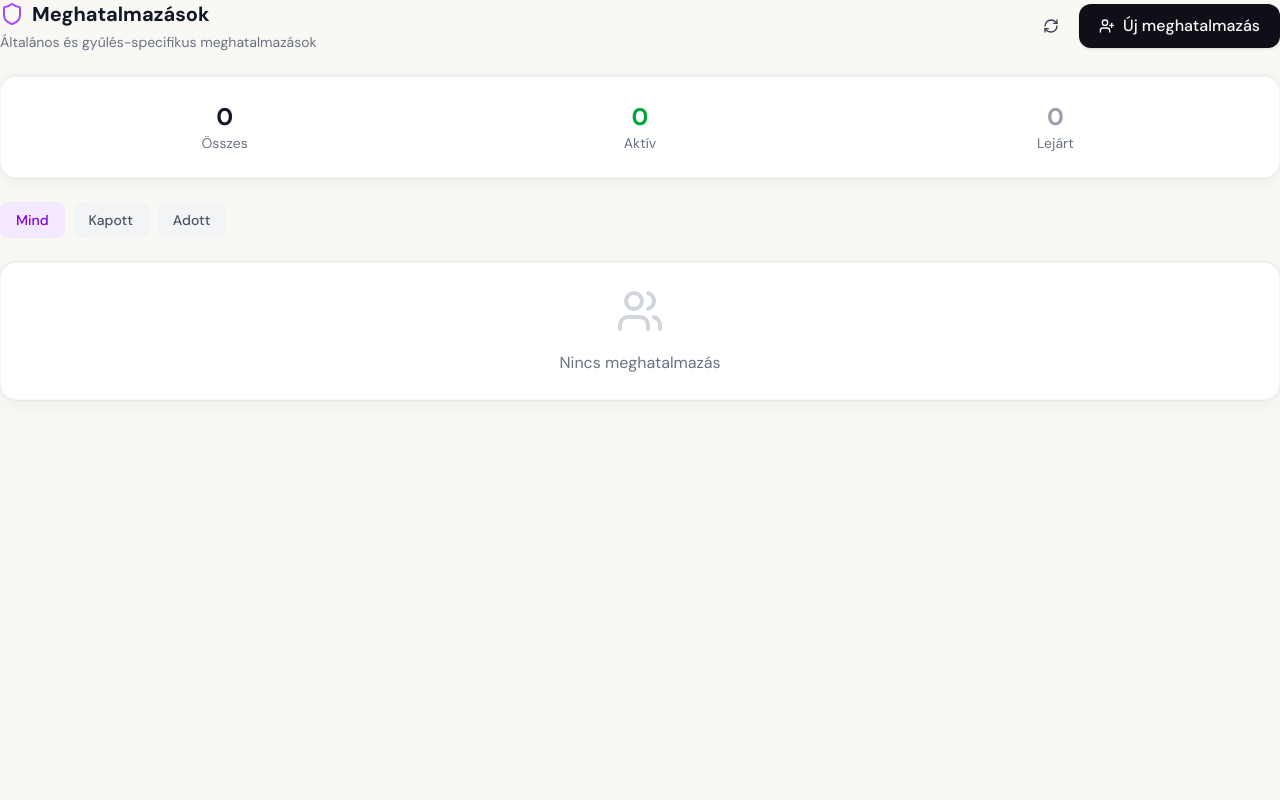
Test: ProxyManagement › opens create modal when clicking new proxy button
This screenshot has width=1280, height=800.
Click the button "Új meghatalmazás" at (1180, 26), box left=1079, top=4, right=1279, bottom=48
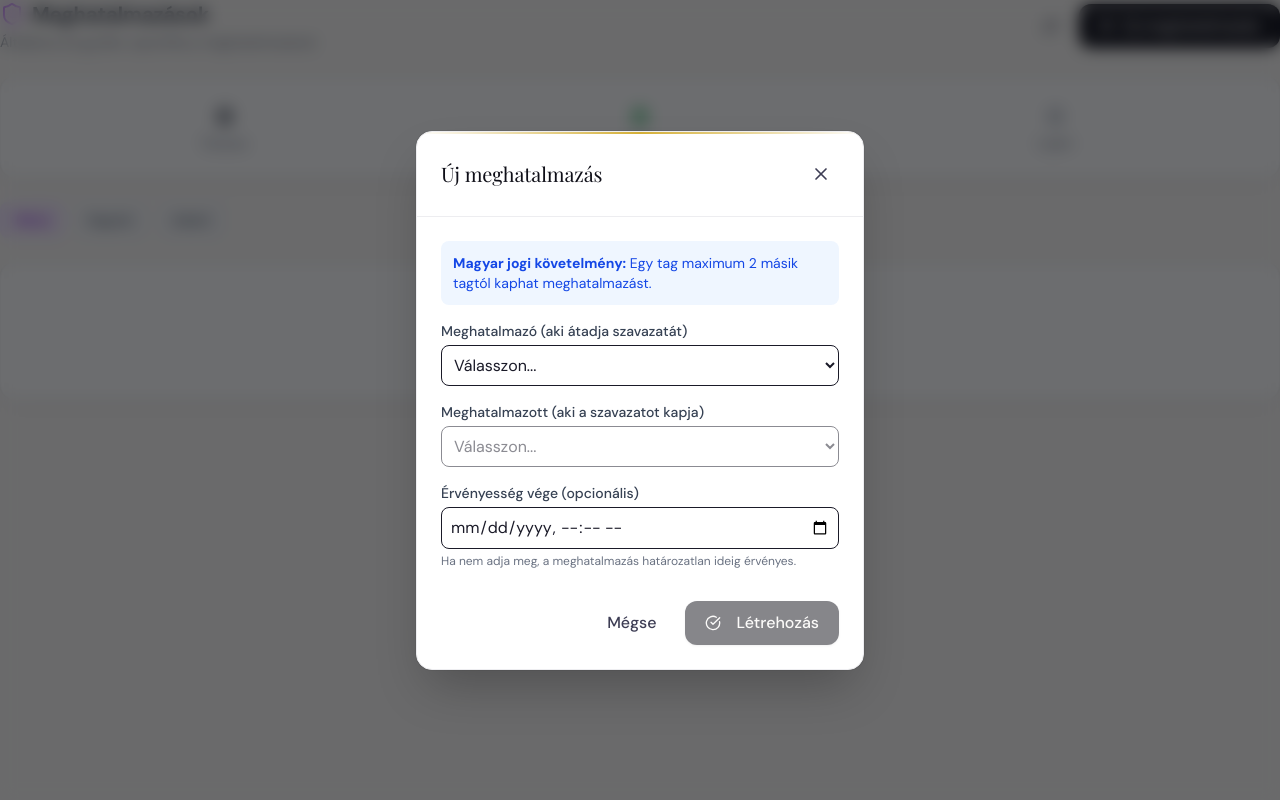
Check: the text "Meghatalmazó (aki átadja szavazatát)" is shown, box left=441, top=322, right=687, bottom=340
Check: the text "Meghatalmazott (aki a szavazatot kapja)" is shown, box left=441, top=402, right=704, bottom=420
